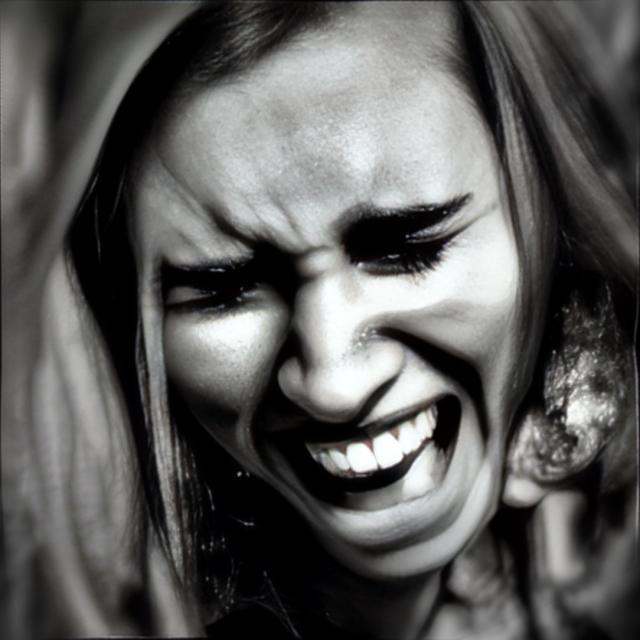Fear: (117, 1, 536, 582)
